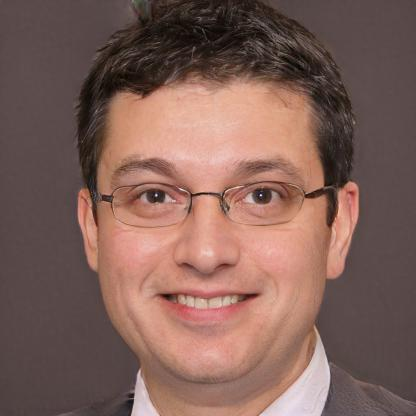glasses: (98, 174, 319, 230)
